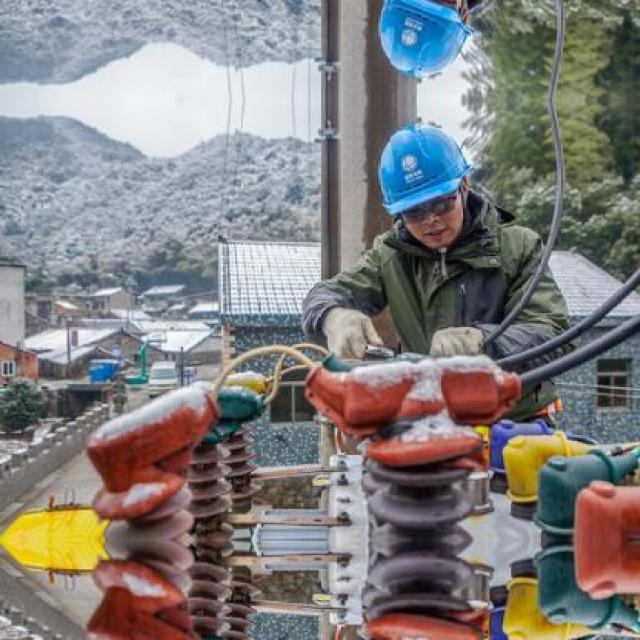helmet: (367, 112, 479, 253), (366, 0, 480, 88)
